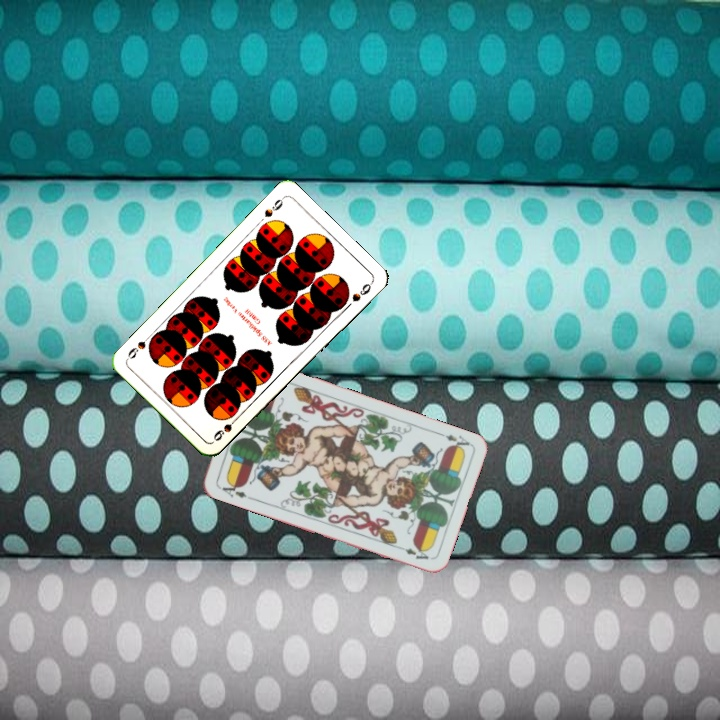EA: (434, 428, 473, 453), (215, 477, 249, 501)
S9: (209, 412, 242, 444), (260, 193, 287, 220)
